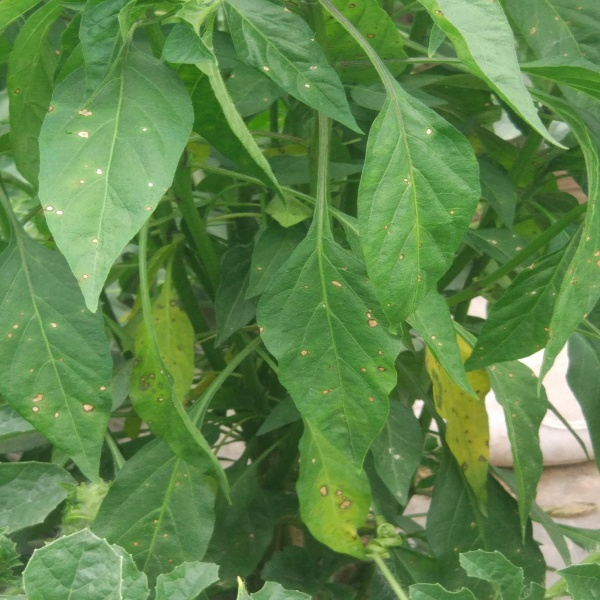Anthrax: (36, 45, 192, 309), (261, 256, 401, 471), (1, 238, 109, 487), (359, 104, 478, 322), (226, 1, 363, 135), (89, 442, 217, 583), (124, 350, 238, 501), (296, 430, 370, 559), (429, 362, 489, 469), (487, 365, 540, 419), (574, 232, 600, 322)
